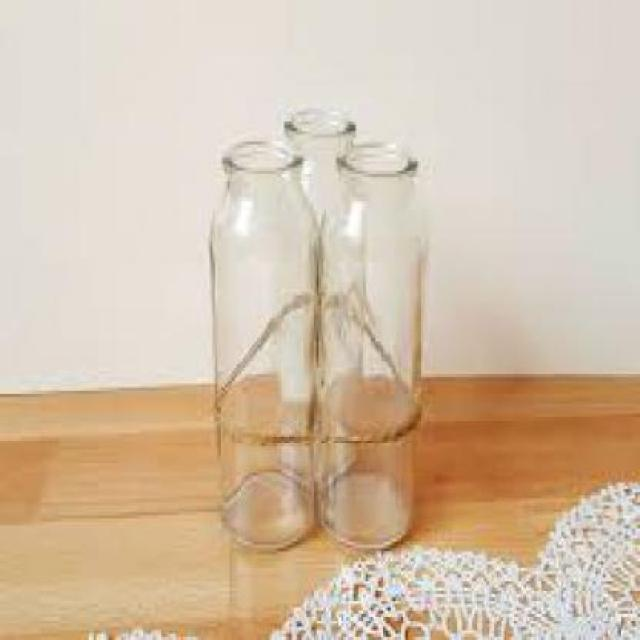kaca: (317, 142, 423, 544), (211, 138, 314, 544), (282, 109, 358, 480)
